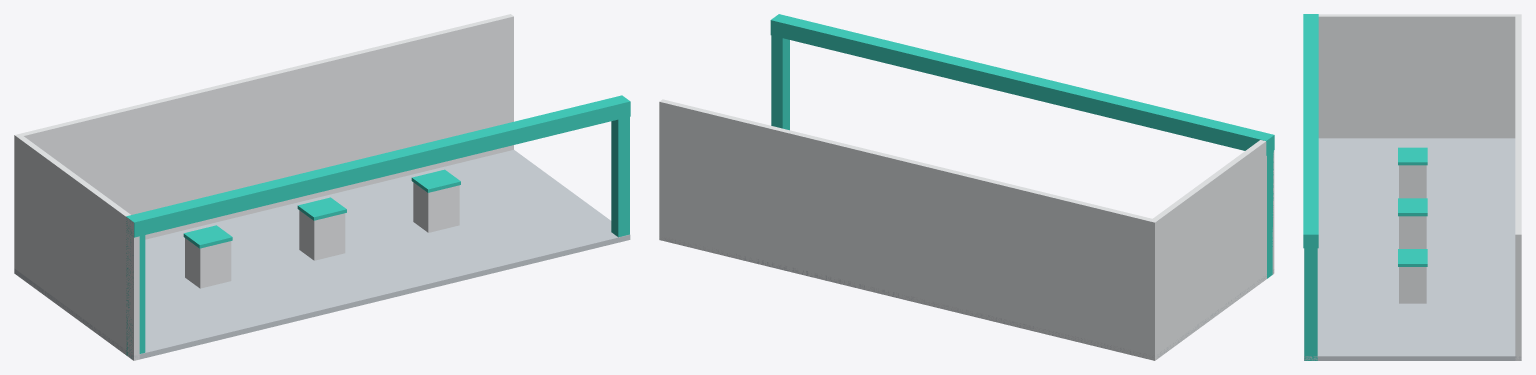
The picture shows the model from 3 angles, left to right: view 1: azimuth 30°, elevation 25°; view 2: azimuth 150°, elevation 25°; view 3: azimuth 270°, elevation 25°; orthographic projection. The views are drawn at different scales.
Visible parts, largest first — view 1: Exhibition Booth Concept; view 2: Exhibition Booth Concept; view 3: Exhibition Booth Concept.
Part boxes in pixels (x1,y1,x2,y2): Exhibition Booth Concept: [14, 14, 630, 360]; Exhibition Booth Concept: [659, 14, 1274, 360]; Exhibition Booth Concept: [1303, 14, 1521, 360].
Bounding box in the file's own units: 12 × 3.2 × 5.02.
